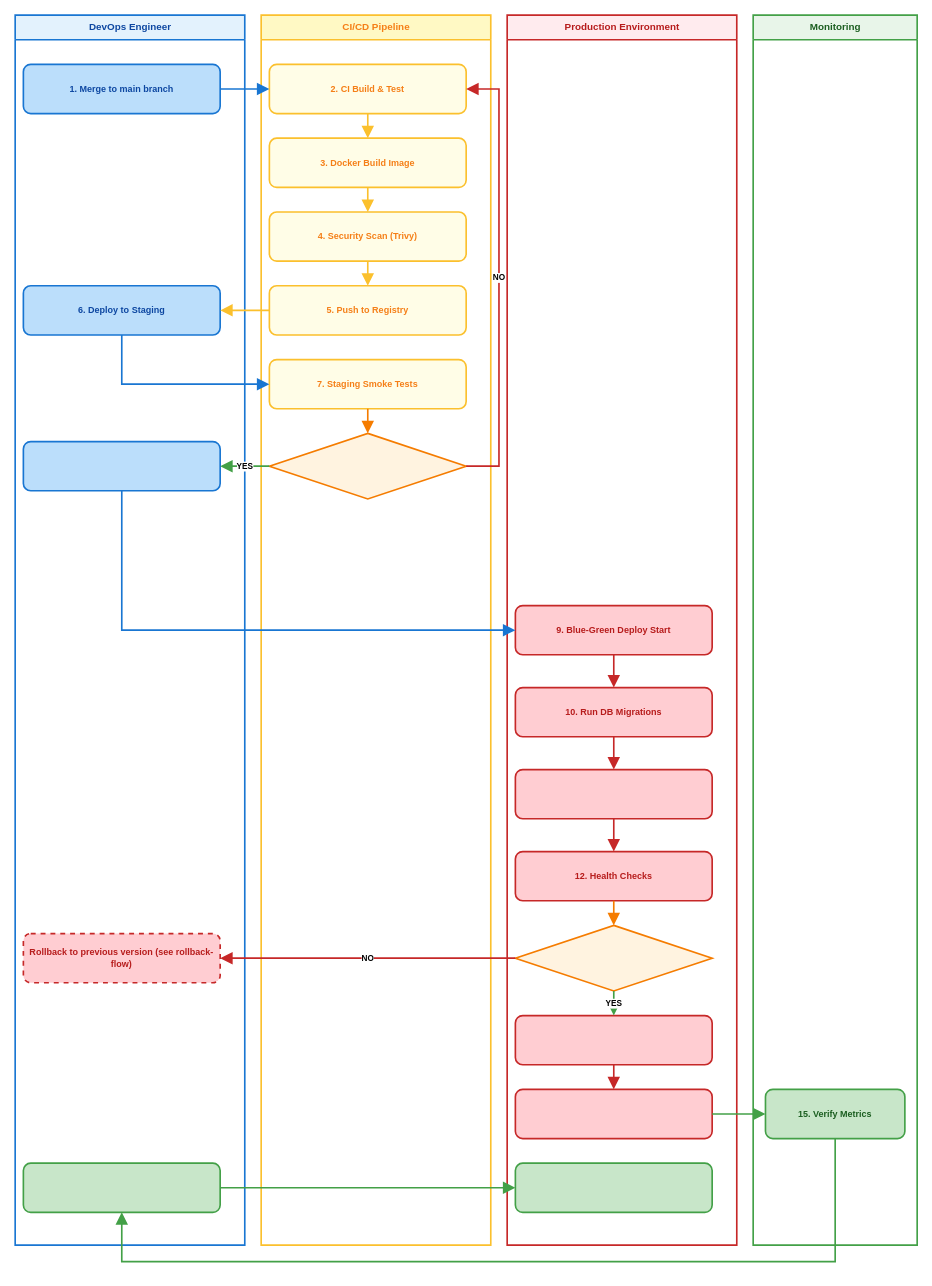
This 932x1286 diagram has some shape labels left out. Each missing label, with the centre of its shape:
11. Start New Containers: point (613, 793)
13. Switch Traffic: point (613, 1039)
14. Production Smoke Tests: point (613, 1113)
16. Mark Deploy Success: point (121, 1187)
17. Cleanup Old Version: point (613, 1187)
8. Approve Production Deploy: point (121, 465)
Health OK?: point (613, 957)
Staging OK?: point (367, 465)
